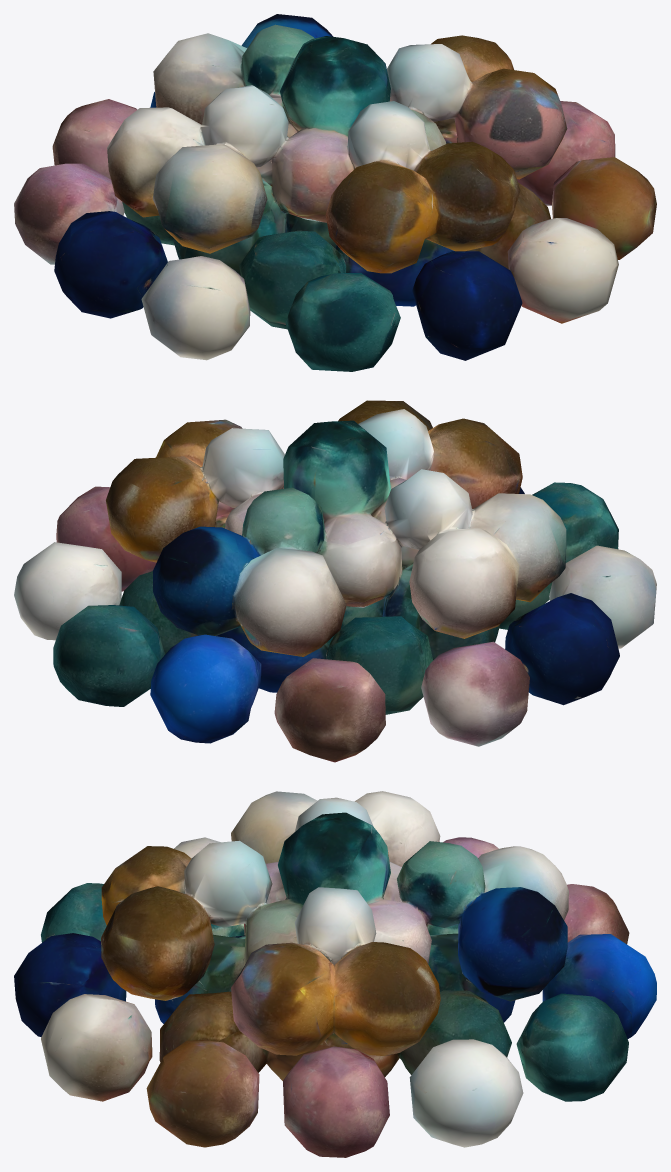
Rendered from marbles-water.glb.
The picture shows the model from 3 angles, top to bottom: view 1: azimuth 30°, elevation 25°; view 2: azimuth 150°, elevation 25°; view 3: azimuth 270°, elevation 25°; orthographic projection.
Parts seen in each view (by area): view 1: Mesh_0; view 2: Mesh_0; view 3: Mesh_0.
Boxes of the visible parts, x1,y1,x2,y2 form: Mesh_0: (14,14,656,371); Mesh_0: (14,400,656,762); Mesh_0: (14,791,656,1157).
Size of the model in its own units: 1.89 by 0.7311 by 1.89.
1 material, 1 textured.
